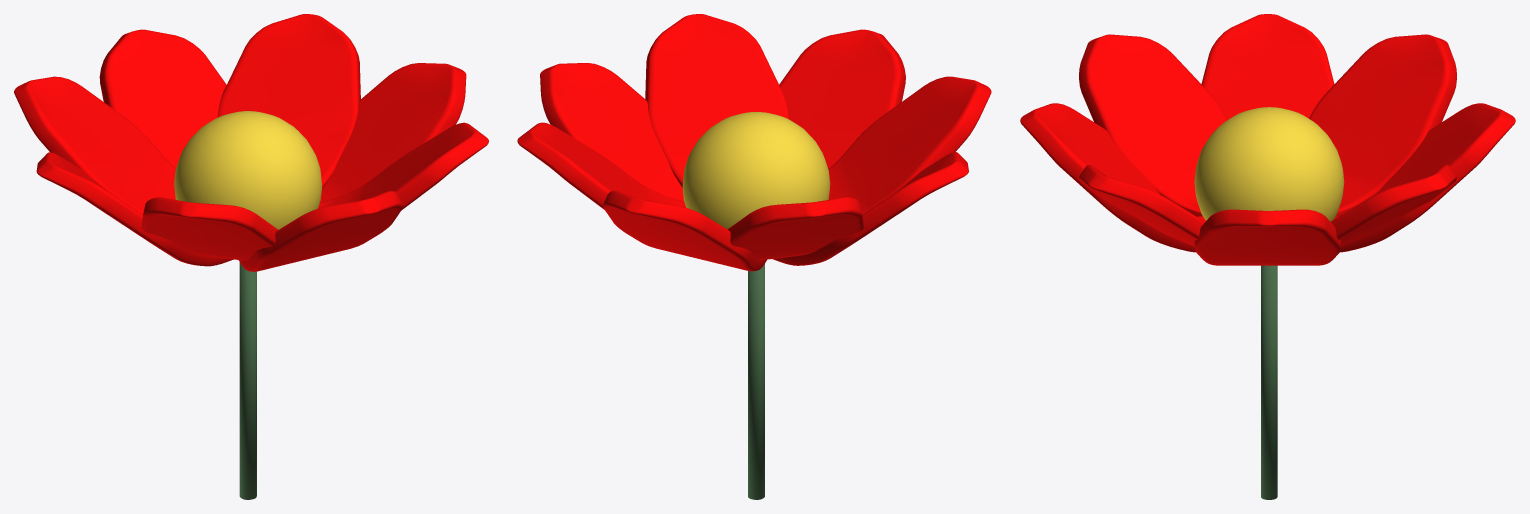
The model's file is flower2.glb.
The picture shows the model from 3 angles, left to right: view 1: azimuth 30°, elevation 25°; view 2: azimuth 150°, elevation 25°; view 3: azimuth 270°, elevation 25°; orthographic projection.
Visible parts, largest first — view 1: Cube.005, Sphere, Cube.007, Cube.003, Cube.001, Cube.004, Cube.006, Cube.008, Cube, Cube.002; view 2: Cube.008, Sphere, Cube.006, Cube.004, Cube.001, Cube.003, Cube.007, Cube.005, Cube, Cube.002; view 3: Cube.006, Cube.007, Sphere, Cube.002, Cube.001, Cube.003, Cube.004, Cube, Cube.008, Cube.005.
Boxes of the visible parts, bbox=[...] form: Cube.005: bbox=[217, 14, 360, 189]; Sphere: bbox=[174, 111, 322, 229]; Cube.007: bbox=[14, 76, 175, 214]; Cube.003: bbox=[99, 29, 226, 167]; Cube.001: bbox=[320, 63, 466, 201]; Cube.004: bbox=[238, 191, 403, 271]; Cube.006: bbox=[142, 197, 277, 260]; Cube.008: bbox=[318, 122, 488, 210]; Cube: bbox=[239, 262, 256, 499]; Cube.002: bbox=[36, 152, 233, 266]; Cube.008: bbox=[645, 14, 788, 187]; Sphere: bbox=[682, 112, 830, 229]; Cube.006: bbox=[828, 76, 991, 213]; Cube.004: bbox=[779, 29, 905, 168]; Cube.001: bbox=[540, 63, 683, 201]; Cube.003: bbox=[603, 190, 766, 271]; Cube.007: bbox=[727, 197, 863, 260]; Cube.005: bbox=[517, 122, 685, 209]; Cube: bbox=[748, 264, 764, 499]; Cube.002: bbox=[772, 152, 968, 265]; Cube.006: bbox=[1079, 34, 1227, 216]; Cube.007: bbox=[1309, 34, 1456, 216]; Sphere: bbox=[1194, 107, 1344, 221]; Cube.002: bbox=[1201, 14, 1334, 119]; Cube.001: bbox=[1194, 209, 1341, 265]; Cube.003: bbox=[1340, 103, 1515, 252]; Cube.004: bbox=[1020, 103, 1195, 252]; Cube: bbox=[1261, 265, 1277, 499]; Cube.008: bbox=[1079, 165, 1205, 246]; Cube.005: bbox=[1331, 165, 1456, 246].
Bounding box in the file's own units: 0.5664 × 0.4942 × 0.5664.
